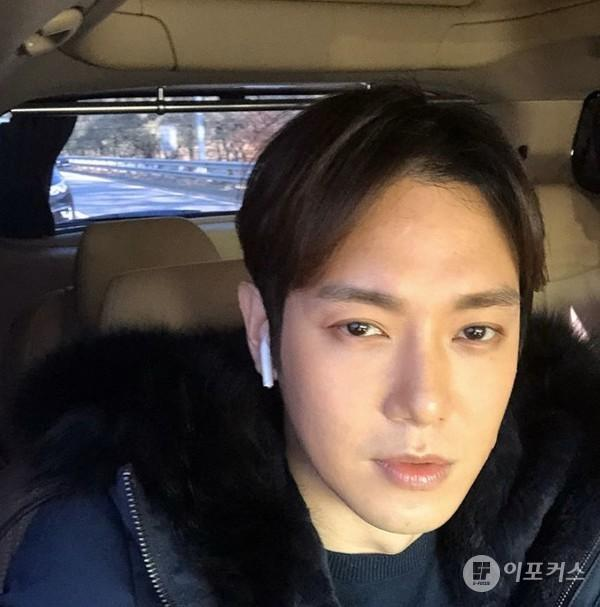earphone: (253, 322, 284, 390)
